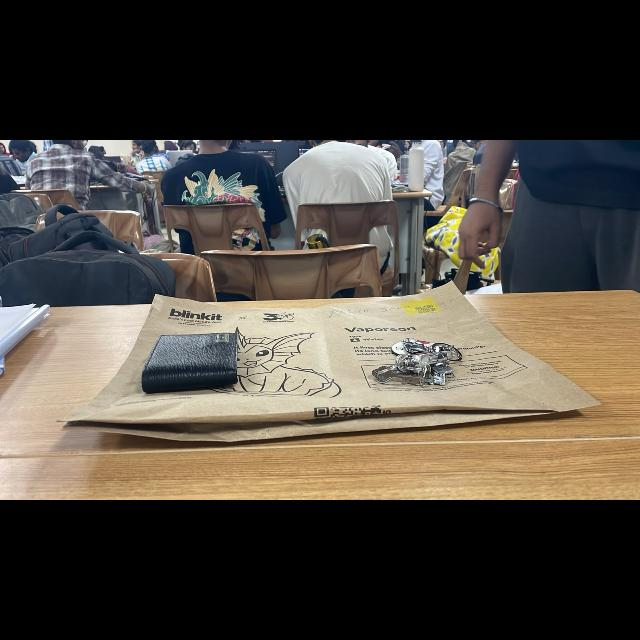keys: (368, 320, 468, 410)
wallet: (138, 323, 255, 403)
